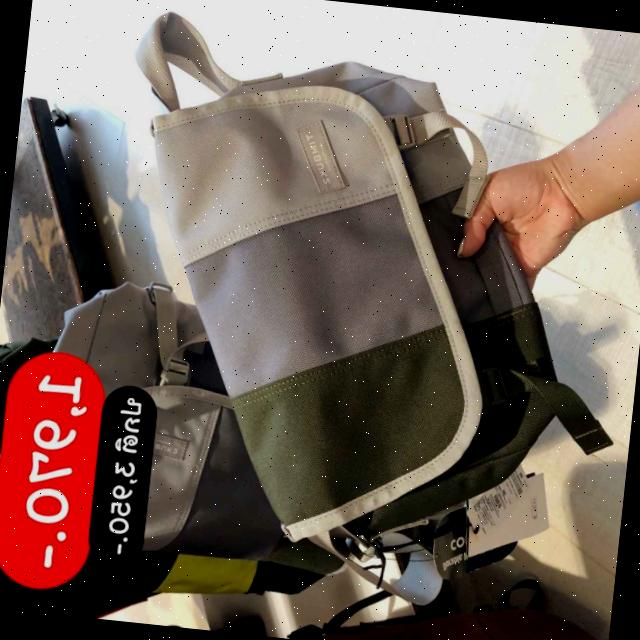Handbag: (109, 40, 591, 567)
